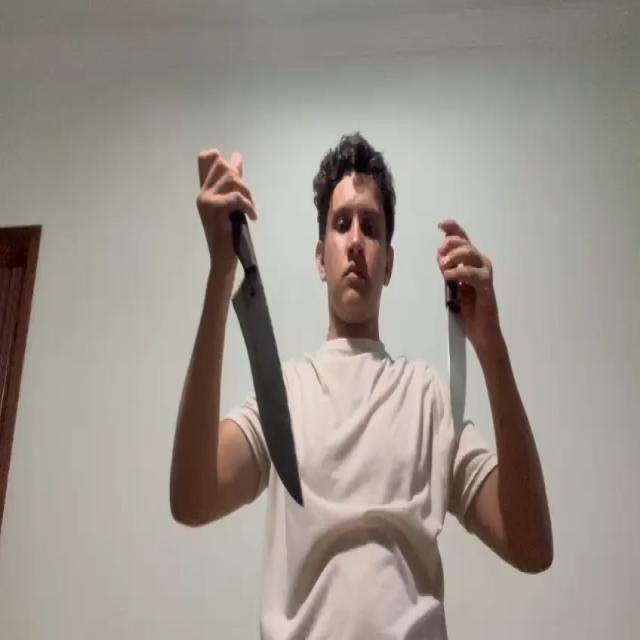knife: (232, 270, 302, 504), (446, 305, 467, 444)
